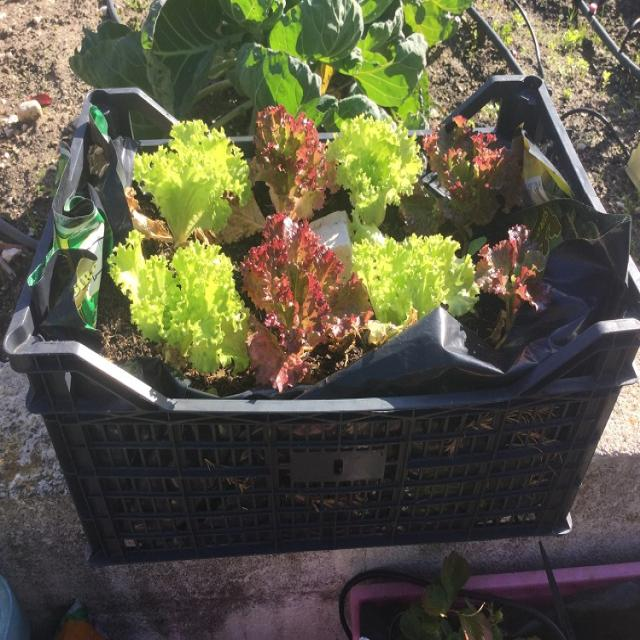basket: (41, 71, 180, 246)
